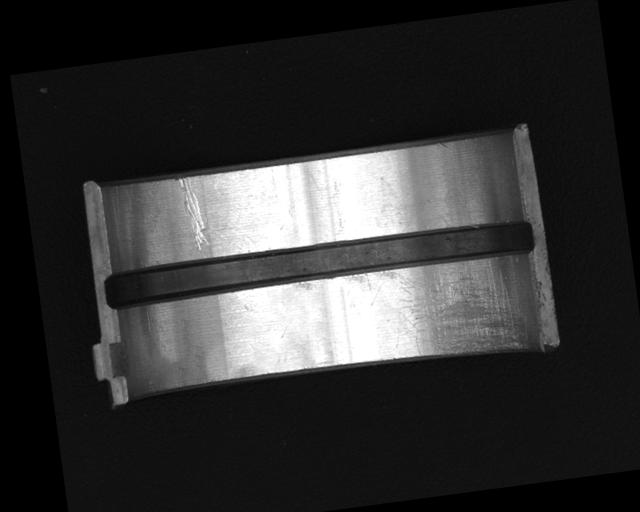gap: (101, 216, 536, 313)
nick: (175, 173, 211, 253)
scratch: (379, 253, 531, 368)
